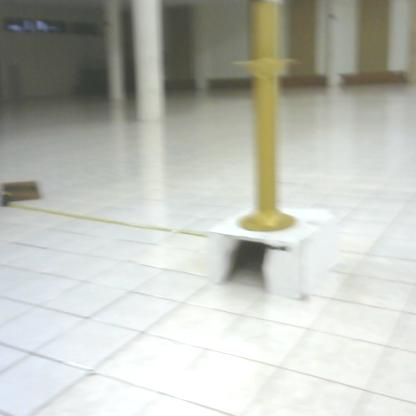pole: (235, 4, 304, 243)
